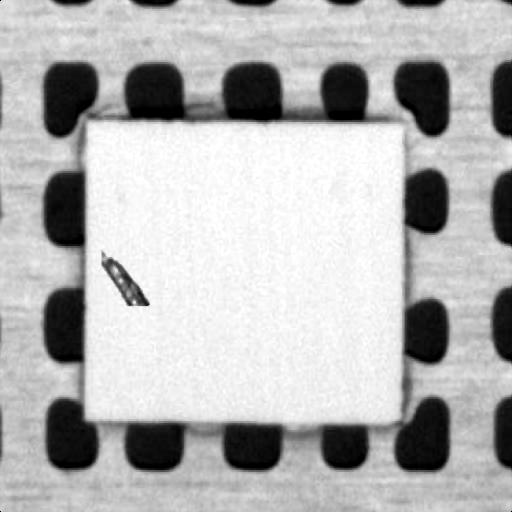DIE_INK: (133, 187, 197, 229)
